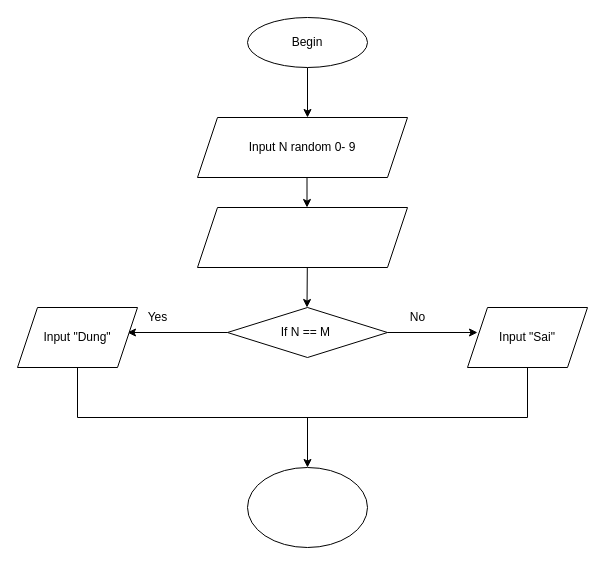
The diagram is 605 pixels wide and 565 high, and some of its shapes have lost their labels. Each missing label, with the centre of its shape:
"End" goes at point 307,507.
"Input M" goes at point 302,237.
